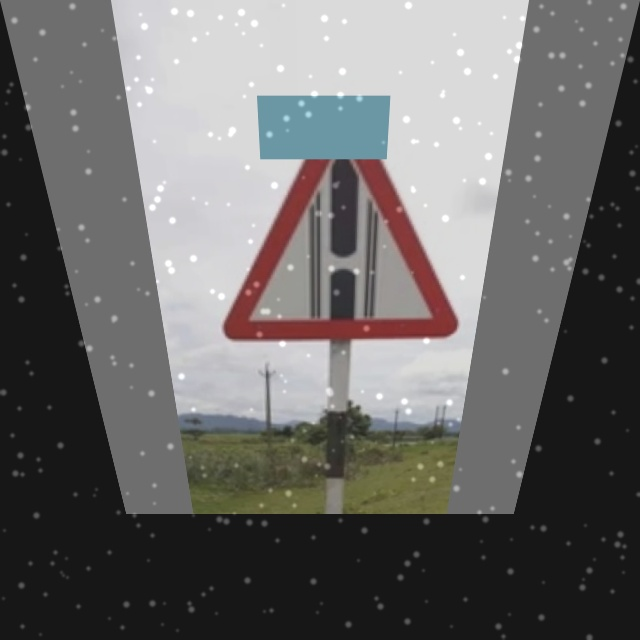Gap_in_Median: (199, 80, 490, 339)
